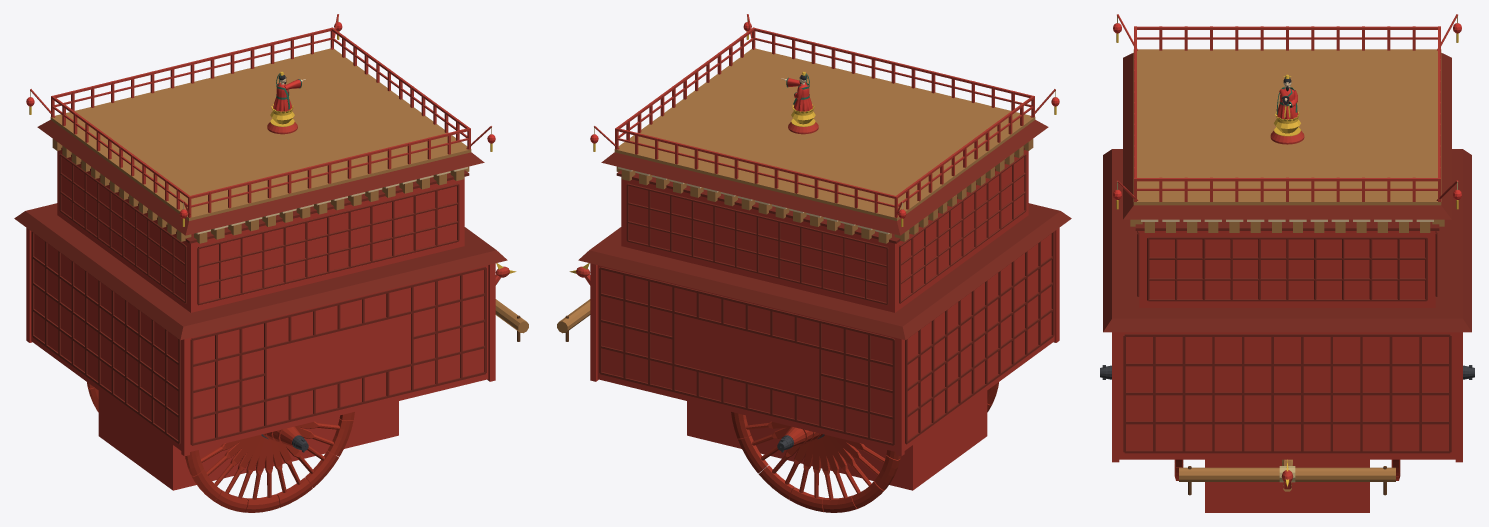
File: chariot-song.glb
3 views of the same model, side by side, from view 1: azimuth 30°, elevation 25°; view 2: azimuth 150°, elevation 25°; view 3: azimuth 270°, elevation 25° (orthographic). The views are drawn at different scales.
Parts seen in each view (by area): view 1: body.tier, body.top, body.side.R, body.end.B, wheel.R, body.end.F, body.pole, figure; view 2: body.tier, body.top, body.side.L, body.end.B, wheel.L, body.end.F, body.pole, figure; view 3: body.tier, body.top, body.end.F, body.pole, figure.
Part boxes in pixels (box(x1,y1,x2,y2)): body.tier: box(14, 120, 507, 340); body.top: box(26, 14, 495, 226); body.side.R: box(144, 265, 488, 489); body.end.B: box(26, 228, 189, 490); wheel.R: box(185, 412, 354, 512); body.end.F: box(396, 263, 495, 435); body.pole: box(495, 263, 528, 341); figure: box(271, 71, 305, 115); body.tier: box(578, 120, 1071, 340); body.top: box(590, 14, 1059, 226); body.side.L: box(597, 265, 939, 489); body.end.B: box(896, 228, 1059, 490); wheel.L: box(731, 412, 900, 512); body.end.F: box(590, 263, 689, 435); body.pole: box(557, 263, 590, 341); figure: box(781, 71, 814, 115); body.tier: box(1103, 53, 1471, 332); body.top: box(1113, 14, 1461, 209); body.end.F: box(1112, 332, 1462, 512); body.pole: box(1179, 459, 1395, 495); figure: box(1275, 74, 1299, 123).
Size of the model in its own units: 14.87 by 13.08 by 10.36.
